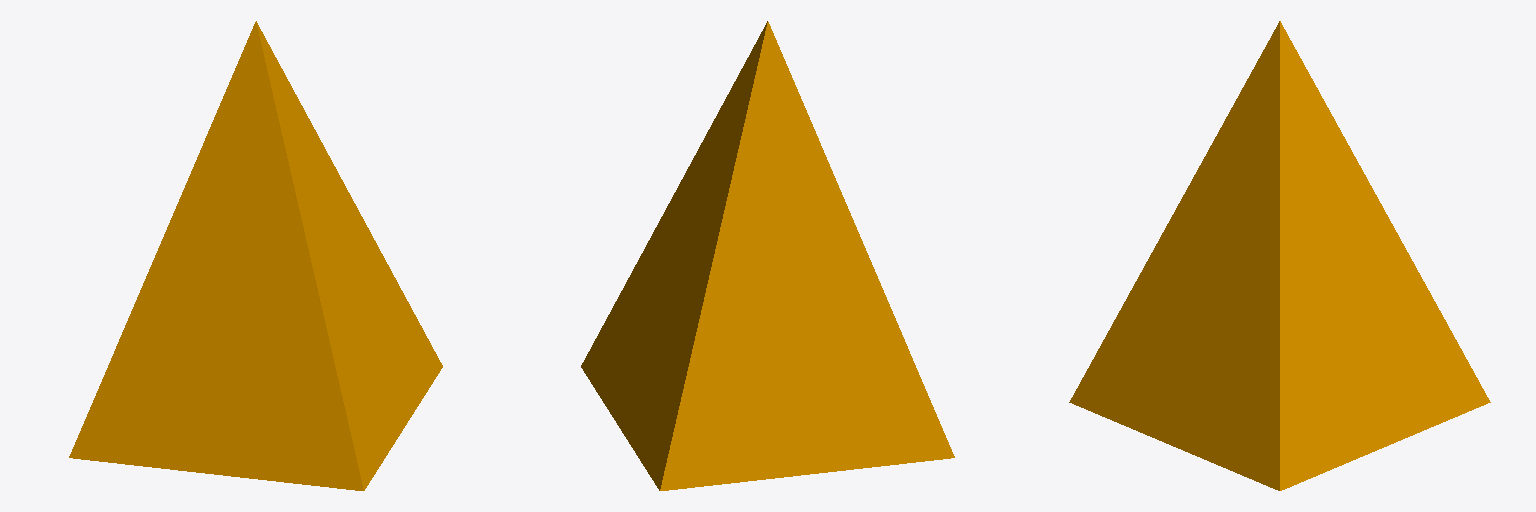
The robot description file, URDF, robot "simple_object":
<robot name="simple_object">
  <link name="my_object">
    <inertial>
      <origin xyz="0 0 0" />
      <mass value="1.0" />
      <inertia  ixx="0.00016" ixy="0.0"  ixz="0.0"  iyy="0.00016"  iyz="0.0"  izz="0.00016" />
    </inertial>
    <visual>
      <origin xyz="0 0 0" rpy="0 0 0"/>
      <geometry>
        <mesh filename="package://affordance_experiment/models/pyramid.dae" />
      </geometry>
    </visual>
    <collision>
      <origin xyz="0 0 0" rpy="0 0 0"/>
      <geometry>
        <mesh filename="package://affordance_experiment/models/pyramid.dae" />
      </geometry>
    </collision>
  </link>
  <gazebo reference="my_object">
    <material>Gazebo/Blue</material>
  </gazebo>
</robot>

--- What the picture shows (computed from the rendered views, not written in the file) ---
Views: 3 orthographic renders of the robot side by side, from view 1: azimuth 30°, elevation 25°; view 2: azimuth 150°, elevation 25°; view 3: azimuth 270°, elevation 25°.
Model simple_object with 1 links and 0 joints (none), rooted at my_object, posed every joint at zero.
Visible links, largest first — view 1: my_object; view 2: my_object; view 3: my_object.
Link boxes in pixels (x1,y1,x2,y2): my_object: (69,21,442,490); my_object: (581,21,954,490); my_object: (1069,21,1490,490).
Size in the robot's own frame: 0.04 by 0.04 by 0.04 metres.
Meshes: 1 distinct files referenced, 1 mesh visuals loaded (1 Collada DAE).